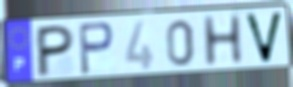0: (164, 18, 199, 70)
4: (123, 20, 156, 73)
H: (200, 12, 246, 70)
P: (35, 24, 77, 80), (77, 20, 116, 77)
V: (242, 11, 285, 66)
